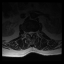CCS_normal: (29, 30, 32, 37)
LFS_stenosis: (34, 30, 35, 34)
LLS_normal: (32, 30, 33, 35)
RFS_normal: (26, 30, 28, 35)
RLS_normal: (28, 30, 30, 35)
